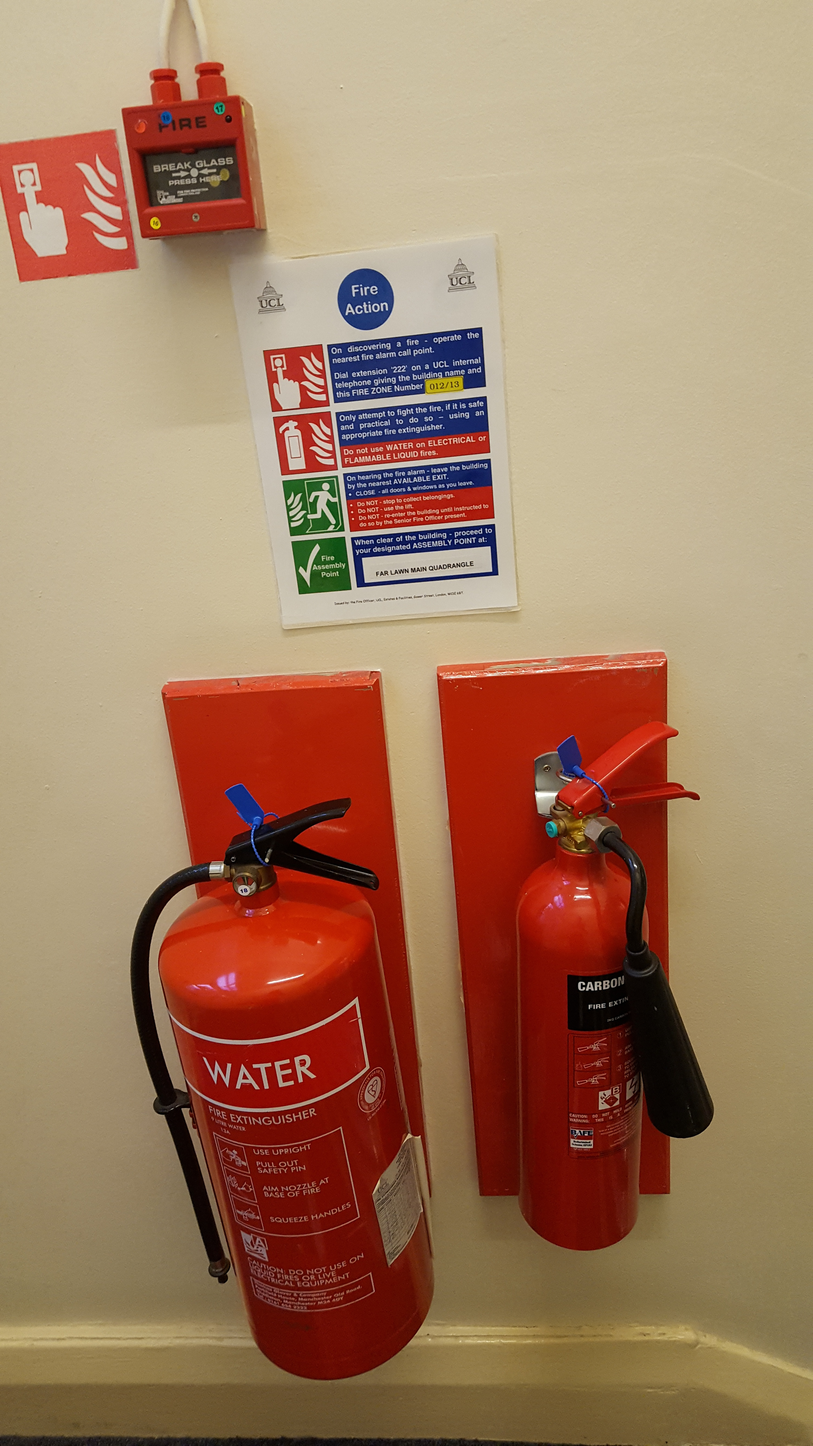fire_extinguisher: (130, 781, 435, 1381), (512, 719, 712, 1252)
